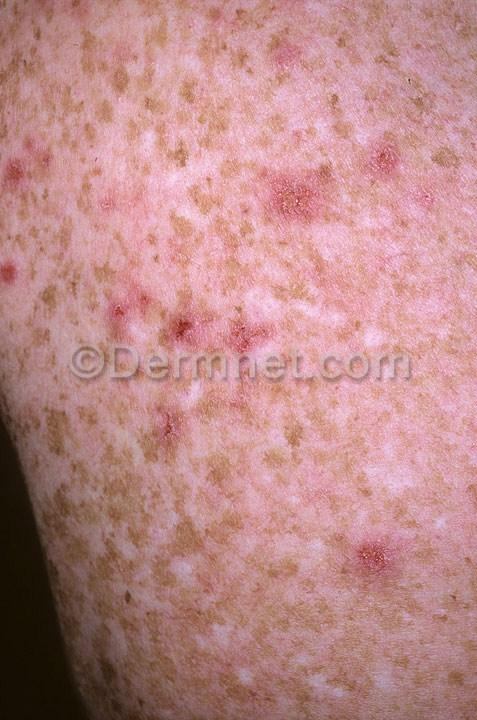Eczema: (0, 0, 475, 340), (23, 383, 470, 720)
